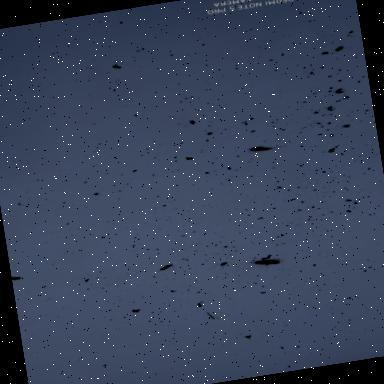pbw: (254, 256, 284, 270), (247, 142, 277, 156), (158, 263, 176, 272)
